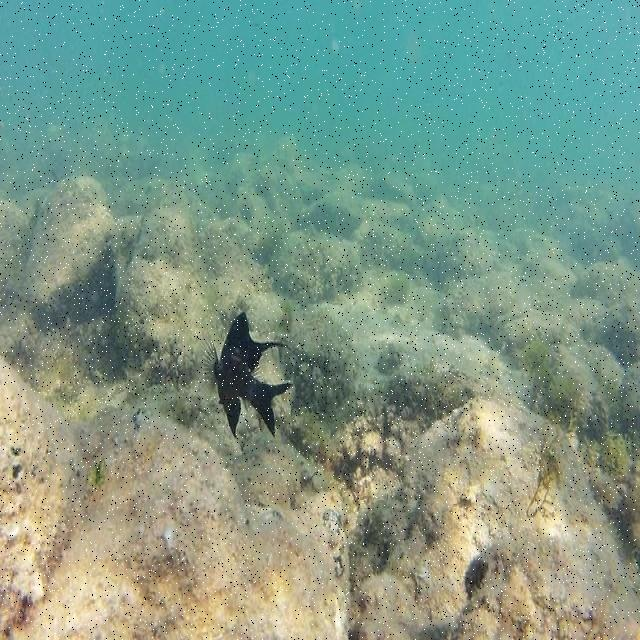fish: (197, 312, 293, 438)
sea-floor: (4, 359, 350, 638), (352, 394, 638, 638)
